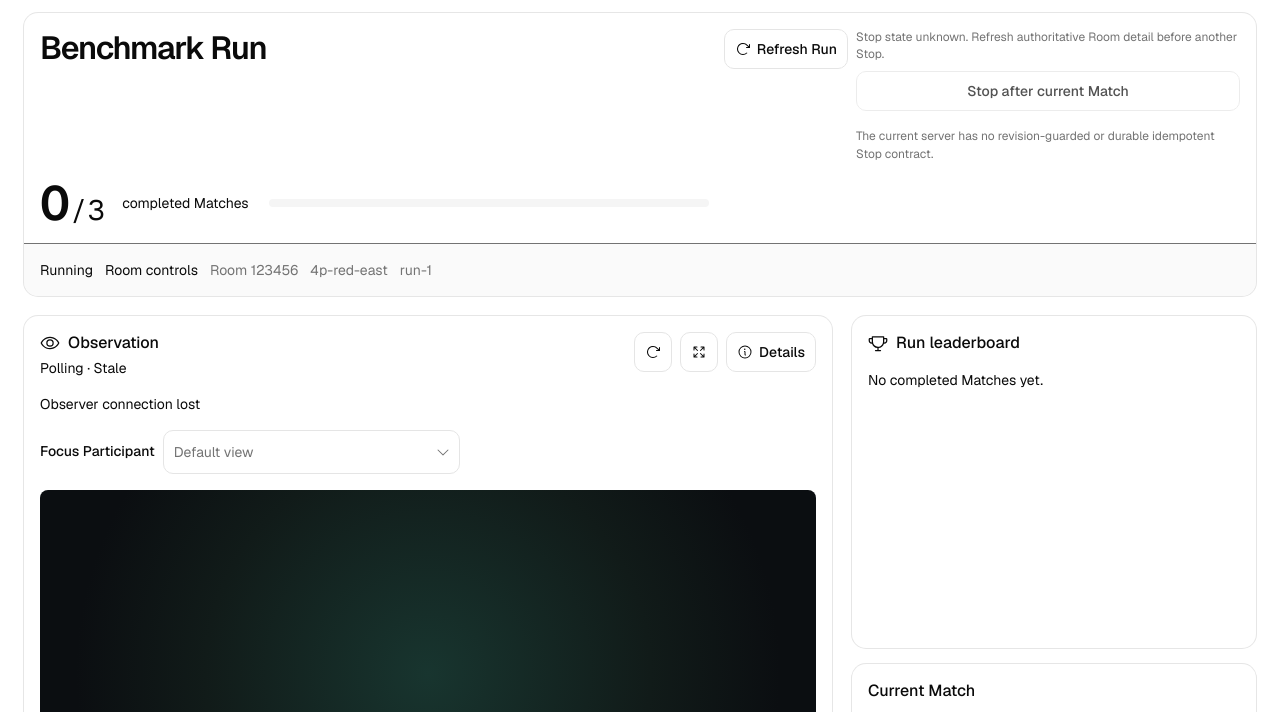
recovers a private observer read without joining a participant or submitting actions
The image size is (1280, 712).
Check: the heading "Observation" is shown, box [40, 332, 159, 353]
Check: the message "Observer connection lost" is shown, box [40, 395, 200, 413]
Click the button named "Refresh table" at [653, 352], box [634, 332, 672, 372]
(page scrolled)
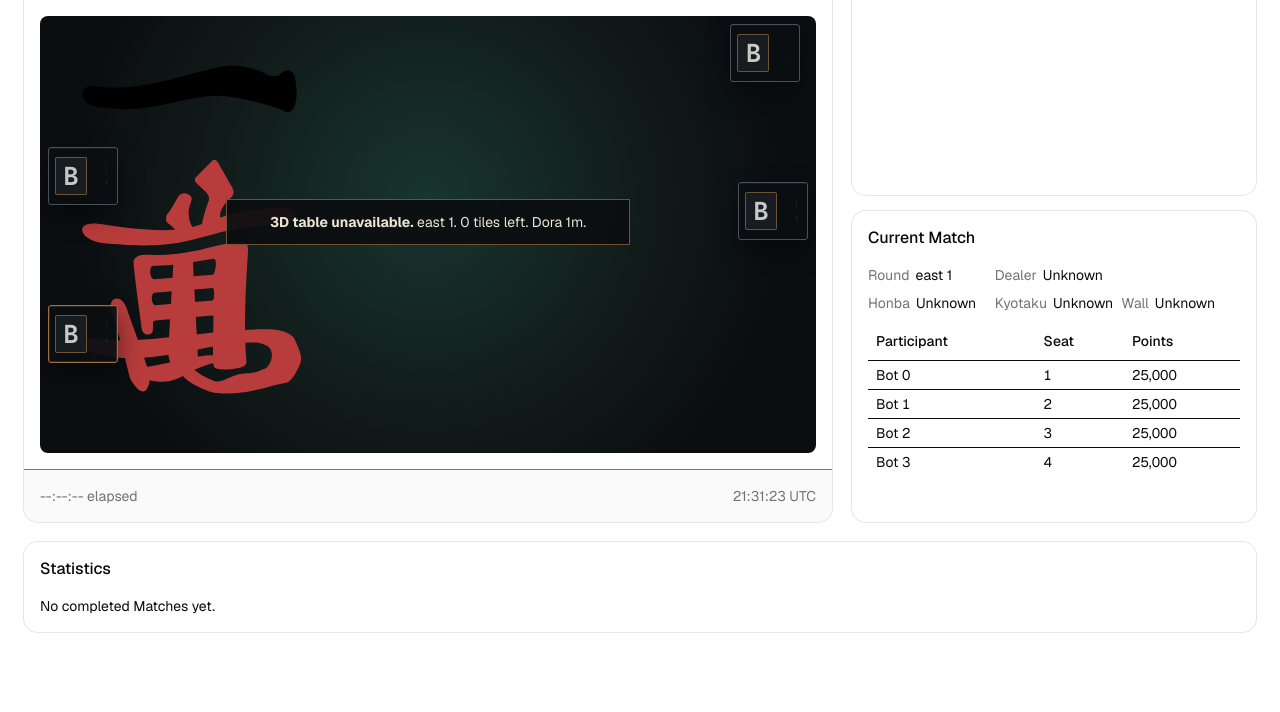
Check: the table named "Current Match points" shows "25,000", box [1132, 366, 1177, 384]
